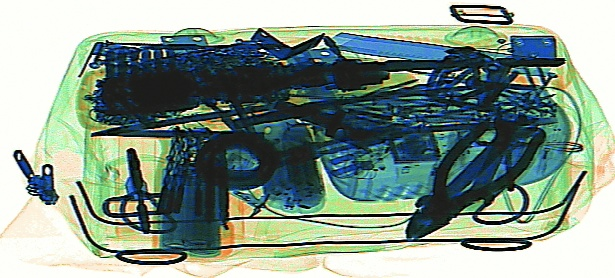knife: (316, 20, 573, 96)
powerbank: (149, 143, 229, 256)
